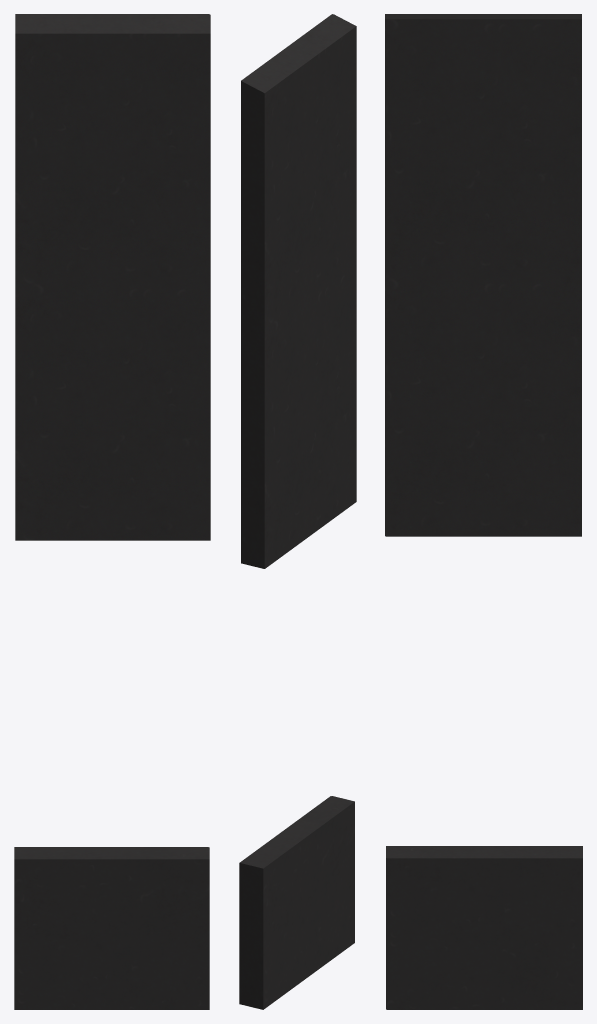
Rendered from A13.1.1 H.WALL. PNL 2901 UP + 850 DWN.fbx.
3 views of the same model, side by side, from view 1: azimuth 90°, elevation 25°; view 2: azimuth 150°, elevation 25°; view 3: azimuth 270°, elevation 25° (orthographic). The views are drawn at different scales.
Parts seen in each view (by area): view 1: Model, Group1; view 2: Model, Group1; view 3: Model, Group1.
Part boxes in pixels (x1,y1,x2,y2): Model: (15, 14, 210, 540); Group1: (14, 847, 209, 1009); Model: (241, 14, 356, 568); Group1: (239, 796, 354, 1009); Model: (385, 14, 581, 536); Group1: (386, 846, 582, 1009).
Bounding box in the file's own units: 156 × 5551 × 1005.
